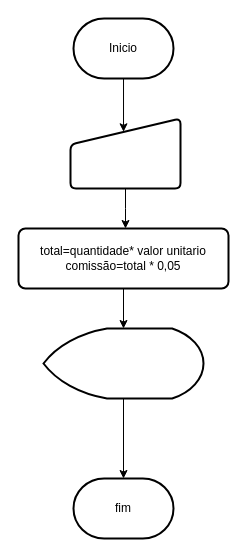
This 246x556 diagram has some shape labels left out. Here are the shapes that lost their labels. From the top down, the centre of each, then its label:
point 125,153: quantidade valor_unitario
point 123,363: total comissão
